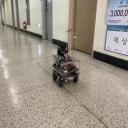cart: (50, 55, 80, 88)
